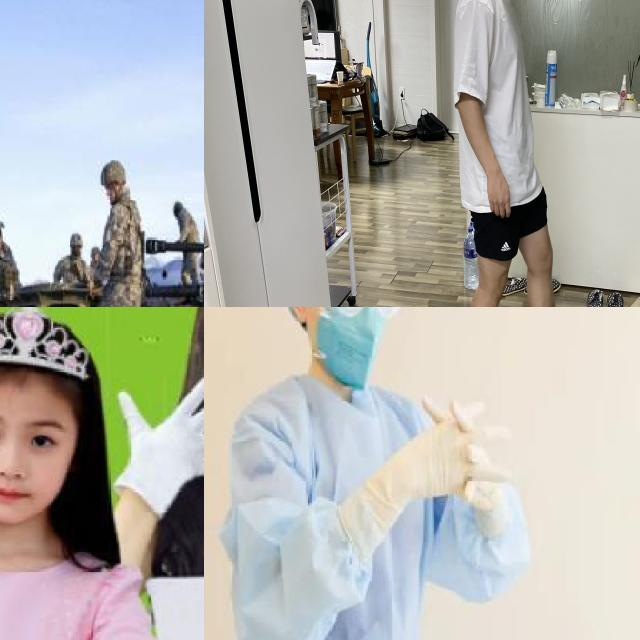No_Glasses: (0, 403, 74, 465)
face_mask: (312, 307, 391, 386)
face_nomask: (0, 386, 79, 527)
hand_glove: (111, 365, 204, 499)
hand_noglove: (400, 391, 516, 526), (4, 285, 16, 301), (88, 279, 95, 297)
head_helmet: (102, 158, 130, 188), (66, 236, 83, 254), (0, 212, 6, 240)
head_nohelmet: (0, 309, 102, 398)
person: (217, 307, 549, 640), (0, 307, 156, 640), (137, 307, 204, 640), (60, 154, 169, 307), (0, 208, 55, 307), (164, 191, 204, 288)
